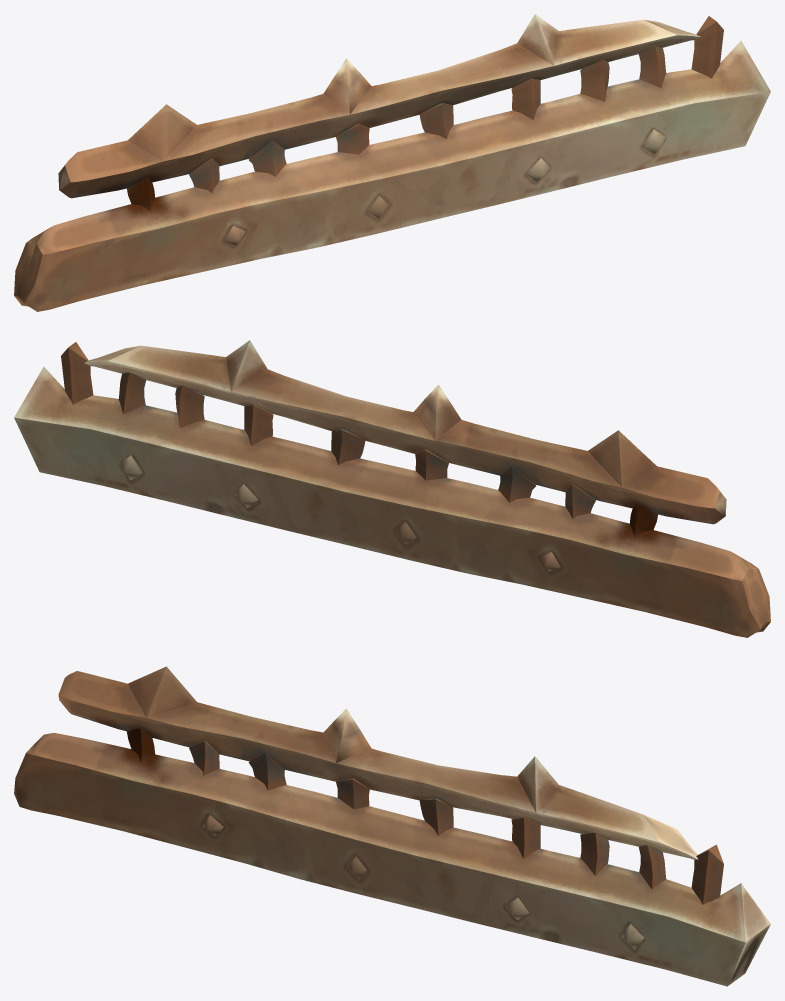
File: Fence_Lg_A.fbx
3 views of the same model, one above another, from view 1: azimuth 30°, elevation 25°; view 2: azimuth 150°, elevation 25°; view 3: azimuth 330°, elevation 25° (orthographic).
Visible parts, largest first — view 1: UND_Fence_A_Base.001; view 2: UND_Fence_A_Base.001; view 3: UND_Fence_A_Base.001.
Part boxes in pixels (<box>): UND_Fence_A_Base.001: <box>14,14,770,311</box>; UND_Fence_A_Base.001: <box>14,340,770,637</box>; UND_Fence_A_Base.001: <box>14,666,770,986</box>.
Size of the model in its own units: 6742 by 1537 by 510.
1 material, 1 textured.
